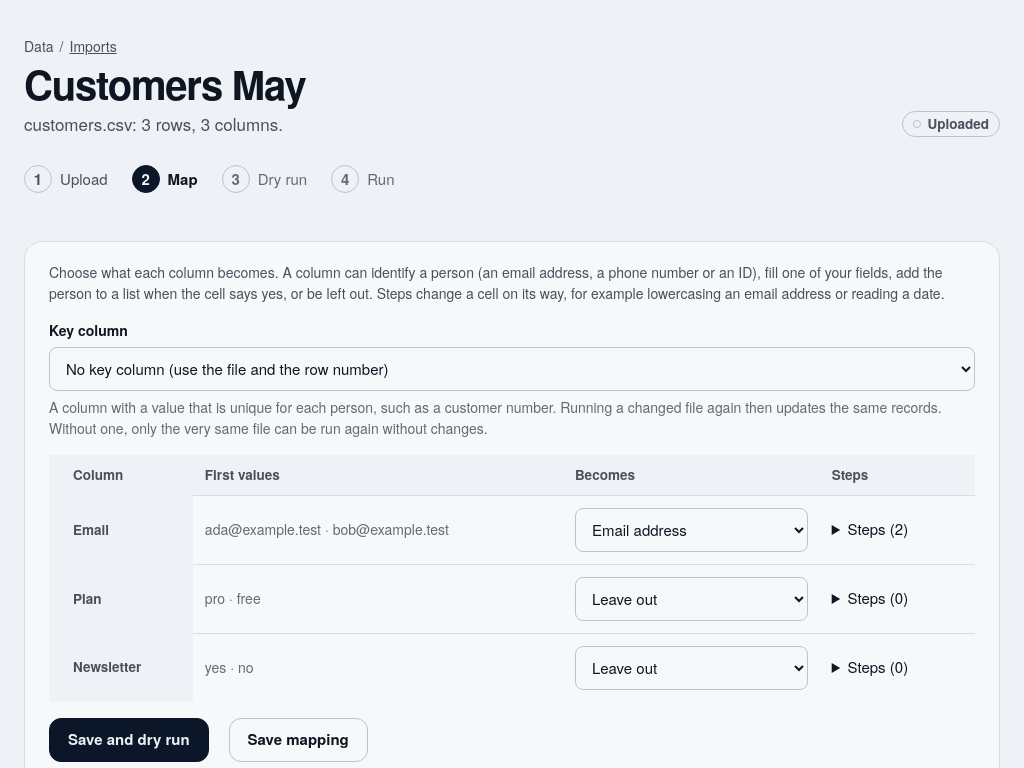
the map step › will not save while no column identifies a person, and says why
The image size is (1024, 768).
Select "Leave out" in the dropdown named "What Email becomes" at x=691, y=530, box left=575, top=508, right=808, bottom=552
(page scrolled)
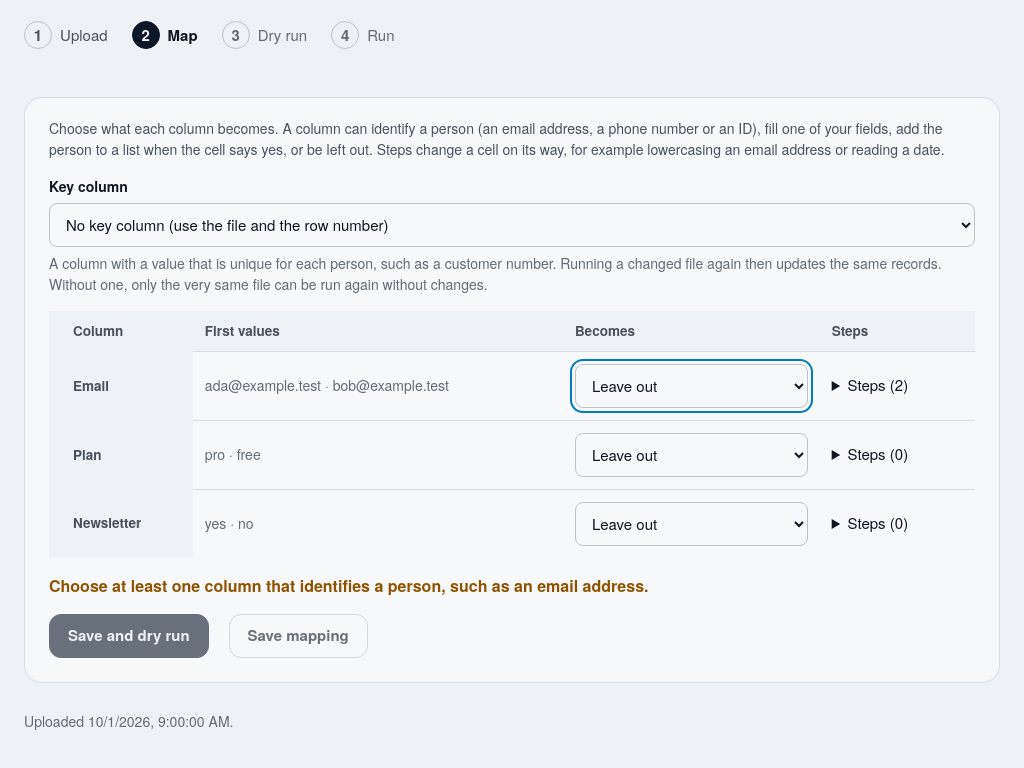
Check: the list item "Choose at least one column that identifies a person, such as an email address." is shown, box left=49, top=574, right=648, bottom=597
Check: the button "Save and dry run" is disabled, box left=49, top=614, right=209, bottom=658
Check: the button "Save mapping" is disabled, box left=229, top=614, right=368, bottom=658
